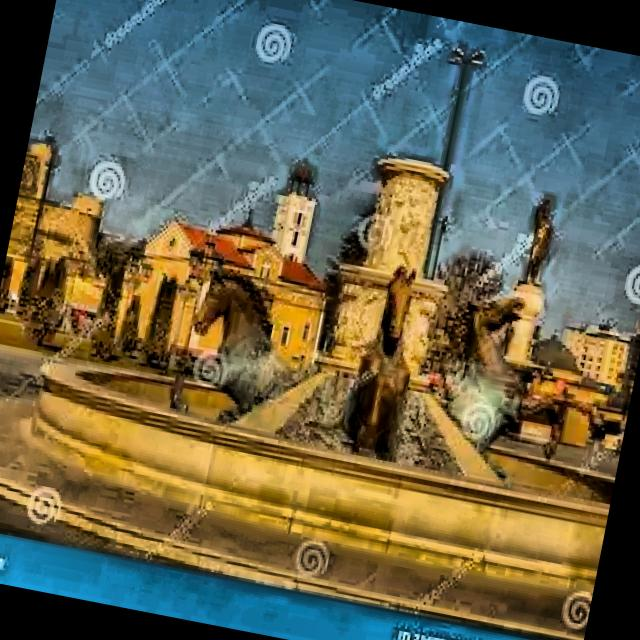Philip II of Macedonia: (488, 190, 572, 388)
